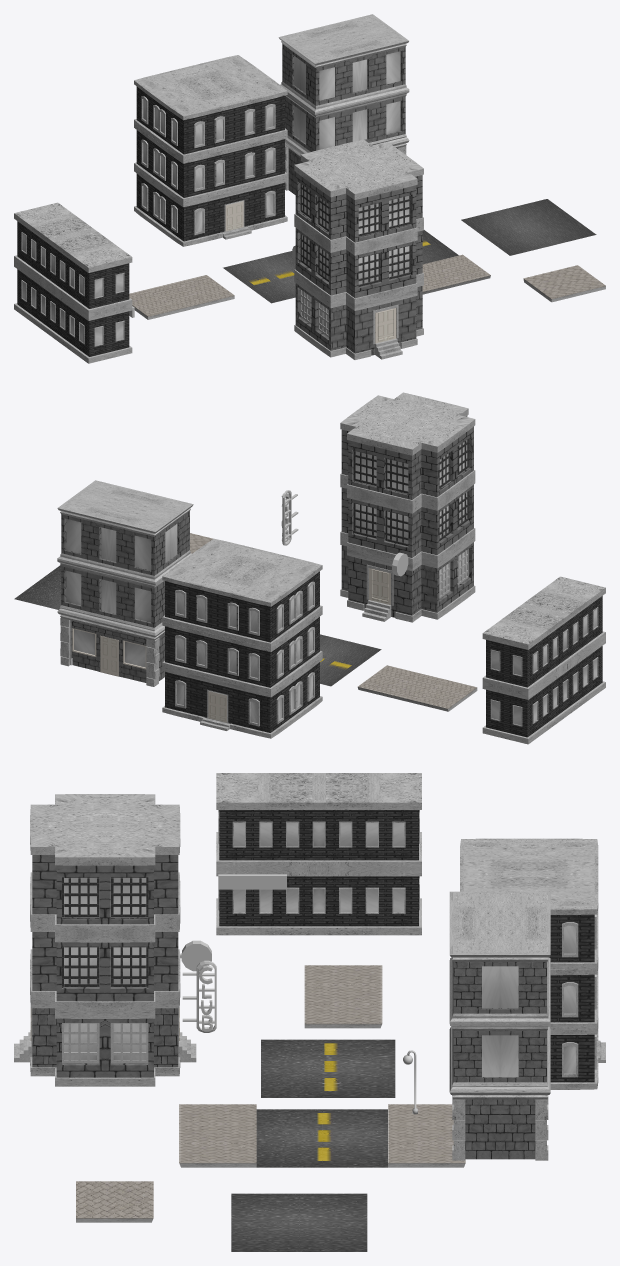
Rendered from Buildings.fbx.
3 renders of one model, top to bottom at view 1: azimuth 30°, elevation 25°; view 2: azimuth 150°, elevation 25°; view 3: azimuth 270°, elevation 25°, orthographic. The views are drawn at different scales.
Parts seen in each view (by area): view 1: Plane.002, Plane.001, Plane.005, Plane.019, Plane, Plane.010, Plane.009, Ground, Plane.006, Plane.018, Plane.007, Plane.008 (+1 smaller); view 2: Plane.002, Plane.001, Plane.005, Plane.019, Plane, Plane.010, Plane.009, Plane.003, Plane.006, Plane.007, Ground, Plane.004; view 3: Plane.005, Plane.002, Plane.001, Plane.018, Plane, Plane.019, Ground, Plane.007, Plane.003, Plane.006, Plane.008, Plane.010 (+4 smaller).
Boxes of the visible parts, x1=… form: Plane.002: x1=294, y1=139, x2=423, y2=304; Plane.001: x1=278, y1=14, x2=409, y2=153; Plane.005: x1=14, y1=202, x2=132, y2=363; Plane.019: x1=134, y1=55, x2=287, y2=159; Plane: x1=294, y1=276, x2=423, y2=359; Plane.010: x1=134, y1=167, x2=287, y2=246; Plane.009: x1=134, y1=124, x2=287, y2=203; Ground: x1=461, y1=199, x2=596, y2=255; Plane.006: x1=129, y1=275, x2=234, y2=319; Plane.018: x1=422, y1=230, x2=490, y2=294; Plane.007: x1=223, y1=251, x2=295, y2=303; Plane.008: x1=523, y1=265, x2=605, y2=302; Plane.002: x1=340, y1=392, x2=475, y2=564; Plane.001: x1=57, y1=480, x2=193, y2=635; Plane.005: x1=482, y1=576, x2=605, y2=744; Plane.019: x1=162, y1=538, x2=322, y2=647; Plane: x1=340, y1=535, x2=475, y2=622; Plane.010: x1=162, y1=656, x2=322, y2=738; Plane.009: x1=162, y1=610, x2=322, y2=693; Plane.003: x1=57, y1=612, x2=164, y2=686; Plane.006: x1=357, y1=665, x2=477, y2=711; Plane.007: x1=320, y1=634, x2=381, y2=686; Ground: x1=14, y1=565, x2=61, y2=609; Plane.004: x1=281, y1=490, x2=298, y2=545; Plane.005: x1=216, y1=773, x2=421, y2=935; Plane.002: x1=30, y1=794, x2=180, y2=1010; Plane.001: x1=449, y1=891, x2=550, y2=1092; Plane.018: x1=179, y1=1104, x2=465, y2=1167; Plane: x1=14, y1=989, x2=196, y2=1086; Plane.019: x1=460, y1=838, x2=598, y2=969; Ground: x1=231, y1=1193, x2=367, y2=1251; Plane.007: x1=261, y1=1039, x2=395, y2=1097; Plane.003: x1=450, y1=1092, x2=550, y2=1160; Plane.006: x1=304, y1=965, x2=382, y2=1028; Plane.008: x1=76, y1=1181, x2=153, y2=1222; Plane.010: x1=550, y1=1023, x2=605, y2=1089.
Bounding box in the file's own units: 3674 × 1178 × 2657.
